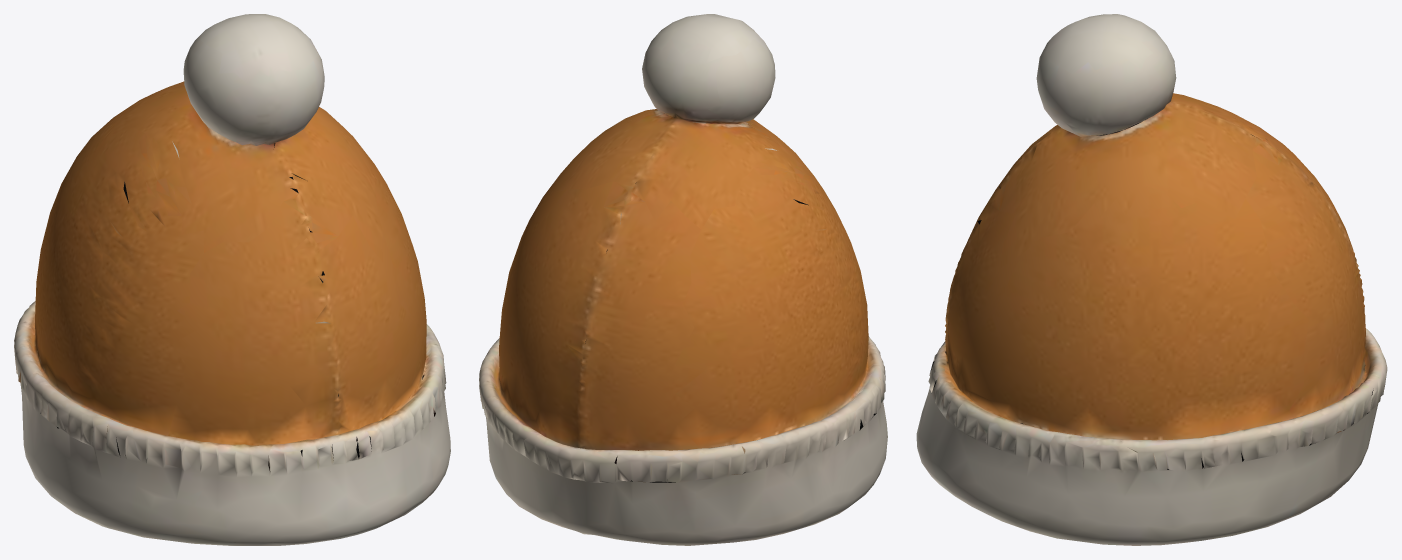
Rendered from beanie.glb.
3 views of the same model, side by side, from view 1: azimuth 30°, elevation 25°; view 2: azimuth 150°, elevation 25°; view 3: azimuth 270°, elevation 25° (orthographic). The views are drawn at different scales.
Visible parts, largest first — view 1: node_0; view 2: node_0; view 3: node_0.
Part boxes in pixels (x1=…): node_0: x1=14, y1=14, x2=450, y2=545; node_0: x1=479, y1=14, x2=887, y2=545; node_0: x1=916, y1=14, x2=1387, y2=545.
Size of the model in its own units: 0.46 by 0.552 by 0.531.
1 material, 1 textured.
